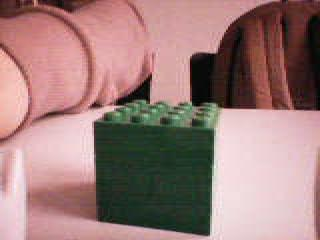legocube: (89, 96, 224, 238)
